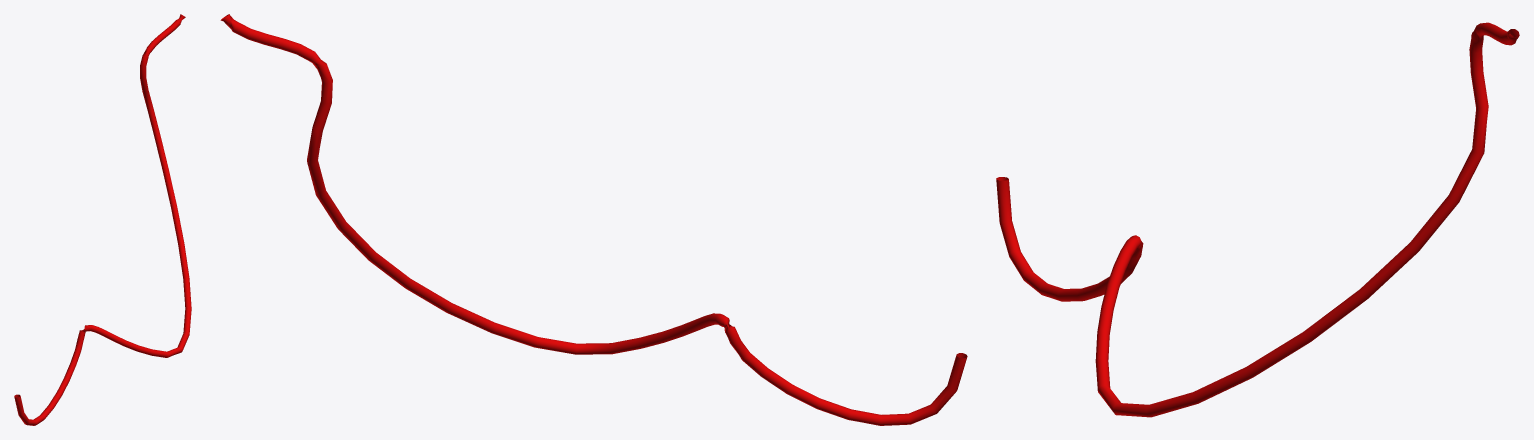
The model's file is Attic_Cable_01_LP_Splines_4.glb.
3 renders of one model, left to right at view 1: azimuth 30°, elevation 25°; view 2: azimuth 150°, elevation 25°; view 3: azimuth 270°, elevation 25°, orthographic. The views are drawn at different scales.
Parts seen in each view (by area): view 1: Attic_Cable_01_LP_Splines_4; view 2: Attic_Cable_01_LP_Splines_4; view 3: Attic_Cable_01_LP_Splines_4.
Part boxes in pixels (x1=…): Attic_Cable_01_LP_Splines_4: x1=14, y1=14, x2=191, y2=425; Attic_Cable_01_LP_Splines_4: x1=220, y1=14, x2=967, y2=425; Attic_Cable_01_LP_Splines_4: x1=996, y1=22, x2=1519, y2=417.
Bounding box in the file's own units: 2.24 × 1.85 × 1.7.
